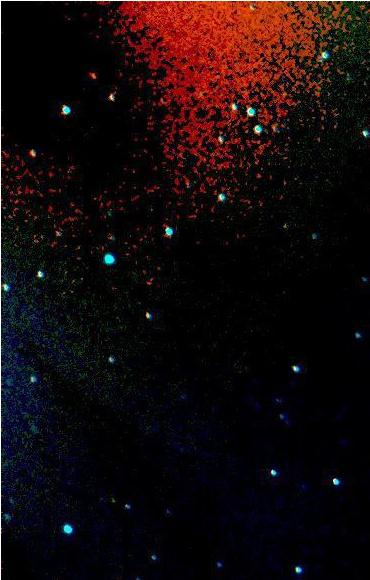star: (99, 484, 129, 514)
